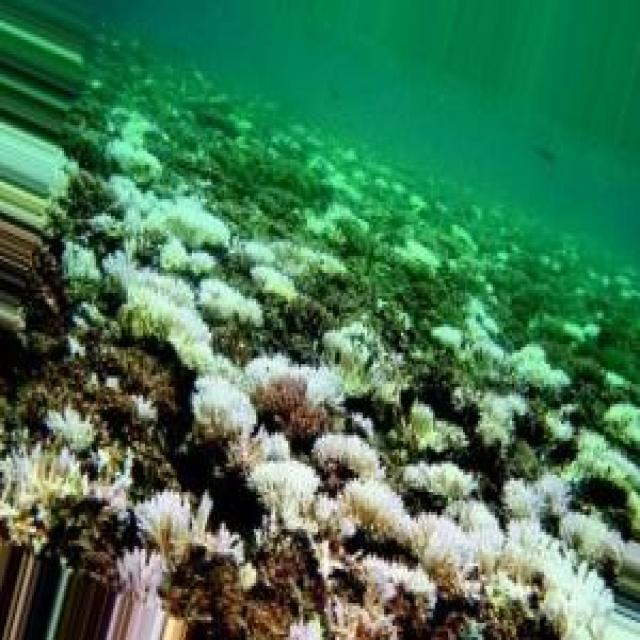bleached coral: (508, 532, 610, 640), (324, 316, 418, 432), (126, 276, 226, 375), (113, 182, 233, 259), (407, 515, 508, 583), (194, 378, 262, 472), (250, 455, 326, 535), (567, 430, 640, 492), (474, 390, 533, 449), (247, 265, 301, 299)
